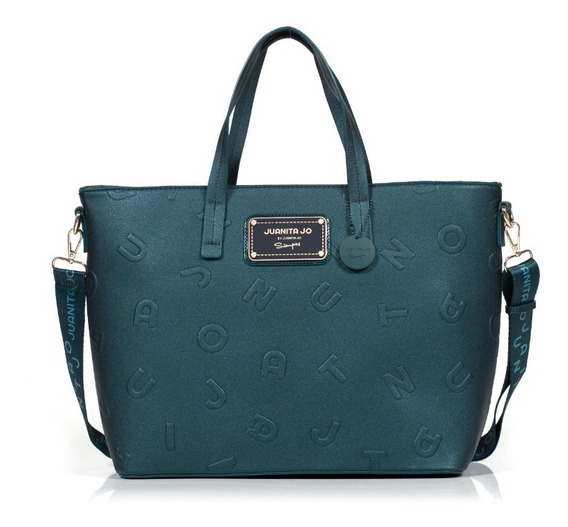cartera: (49, 24, 541, 481)
